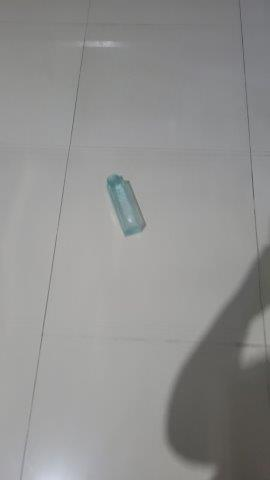botolplastik: (105, 175, 146, 235)
